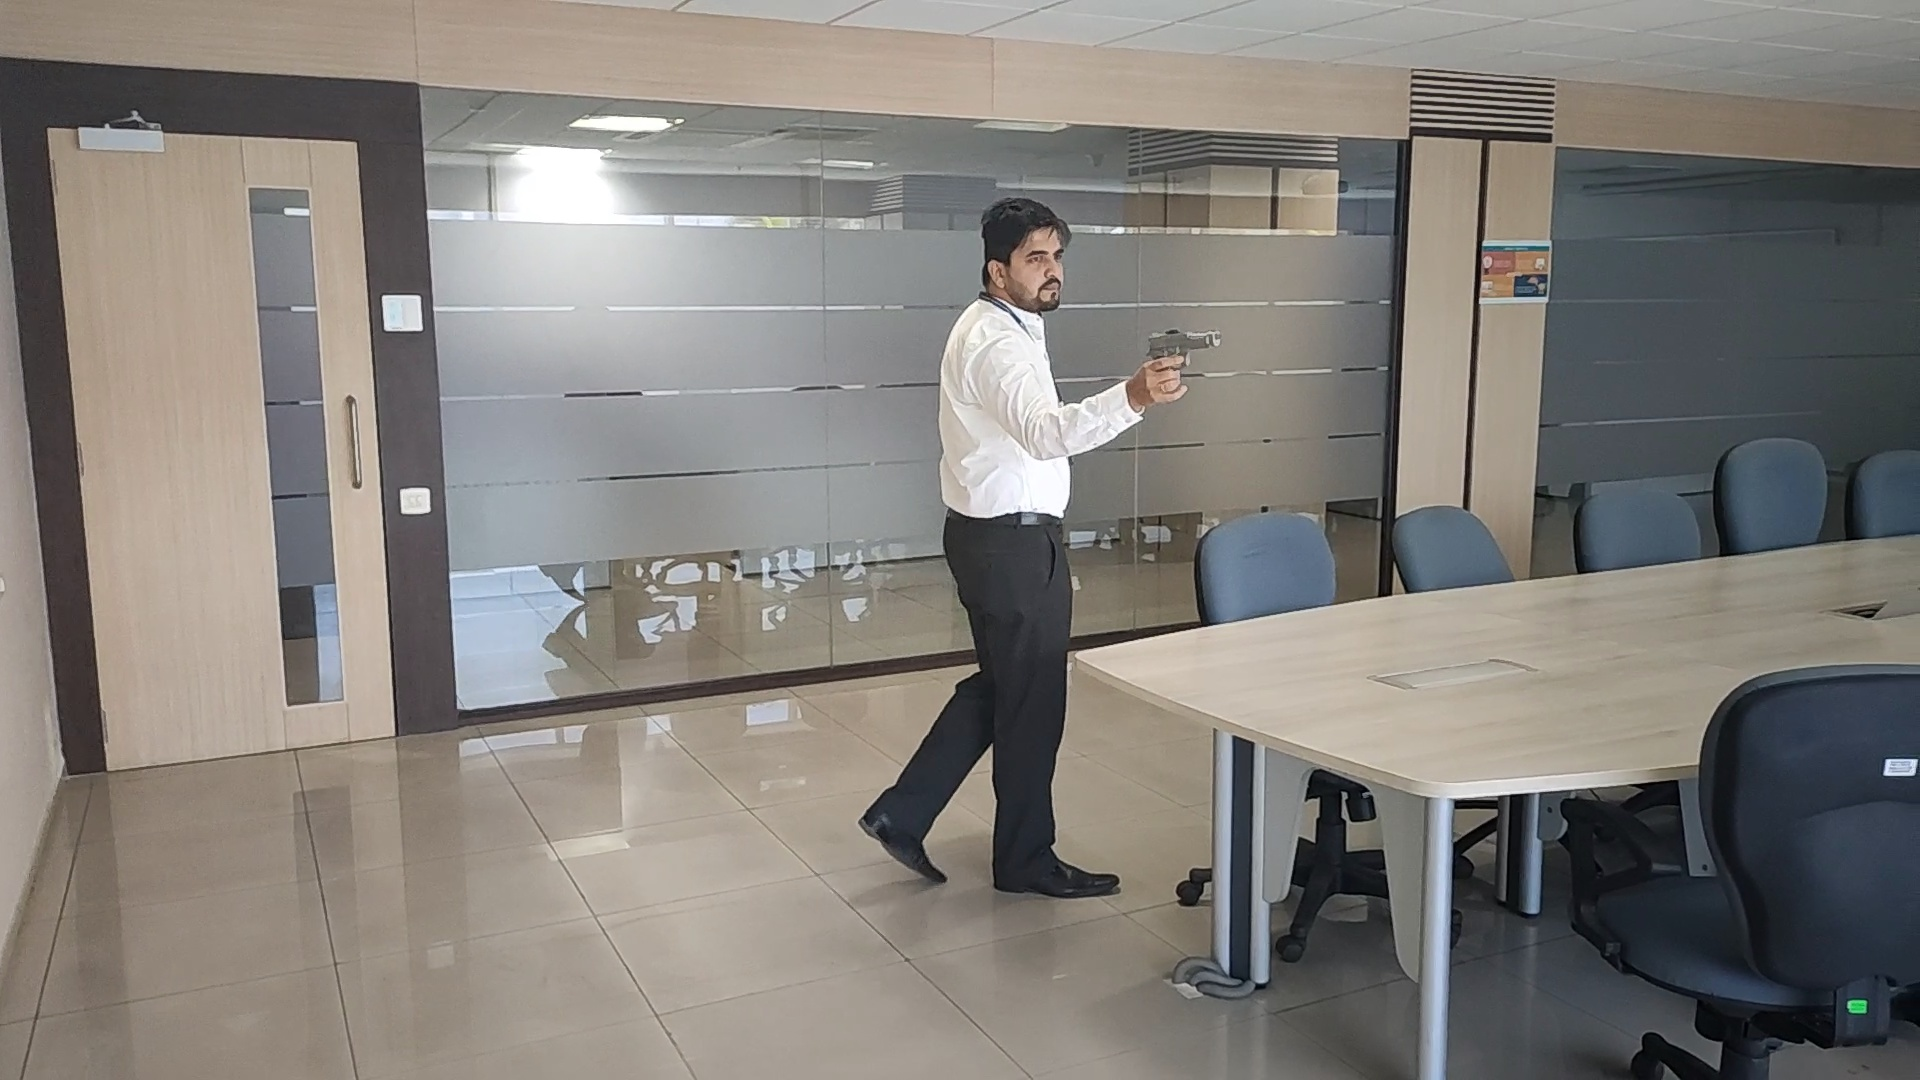gun: (1142, 324, 1225, 365)
